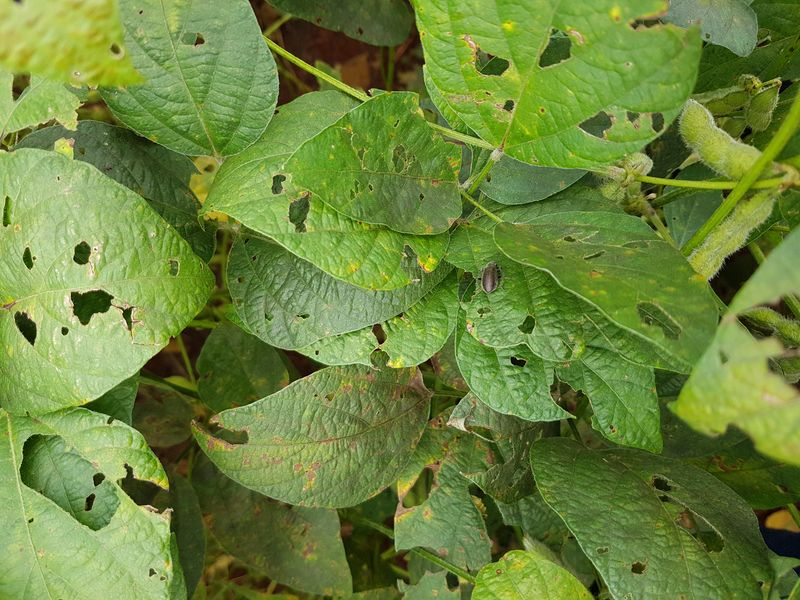Lagria_villosa: (471, 256, 512, 301)
